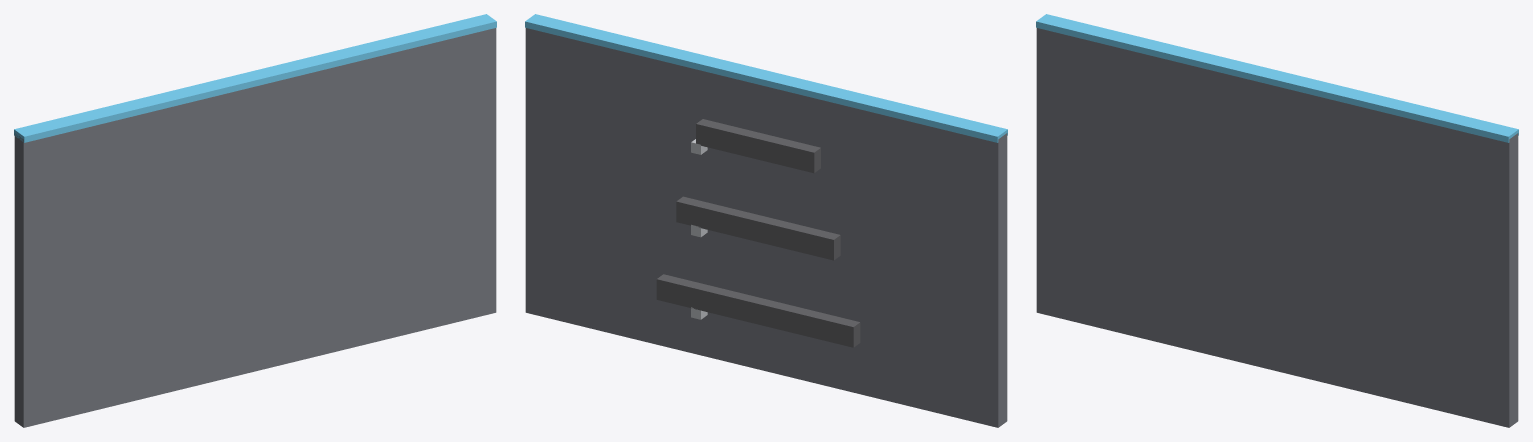
Rendered from WeaponRack.fbx.
3 views of the same model, side by side, from view 1: azimuth 30°, elevation 25°; view 2: azimuth 150°, elevation 25°; view 3: azimuth 330°, elevation 25° (orthographic).
Parts seen in each view (by area): view 1: WeaponRack_Mesh; view 2: WeaponRack_Mesh; view 3: WeaponRack_Mesh.
Part boxes in pixels (x1,y1,x2,y2): WeaponRack_Mesh: (14,14,496,427); WeaponRack_Mesh: (525,14,1007,427); WeaponRack_Mesh: (1036,14,1518,427).
Size of the model in its own units: 2.4 by 0.145 by 1.42.
